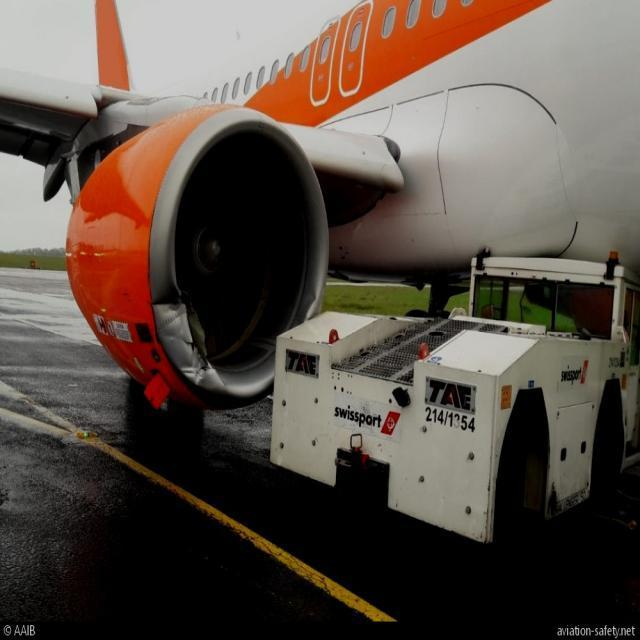crack: (183, 291, 211, 371)
dent: (152, 291, 182, 331), (299, 286, 324, 323), (176, 351, 202, 382)
